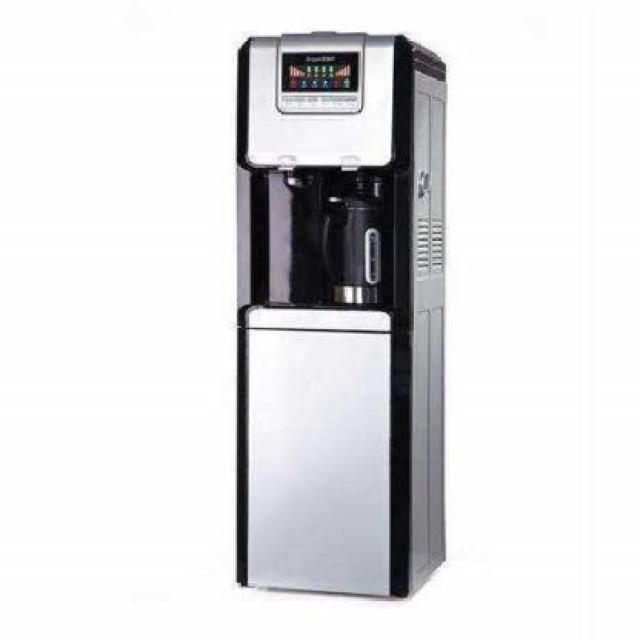cooler: (228, 24, 450, 606)
